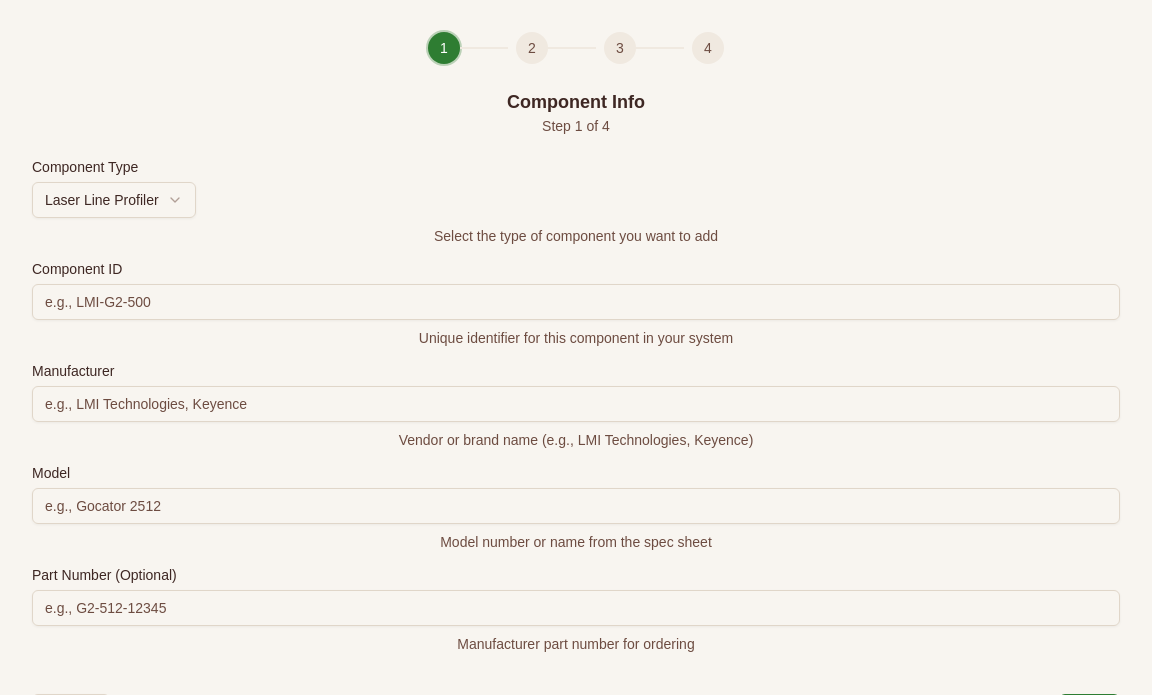
Test case: ComponentEntryWizard › step configuration by component type › AreascanCamera has 3 steps
Click the dropdown named "component type": (114,200) [32,182,196,218]
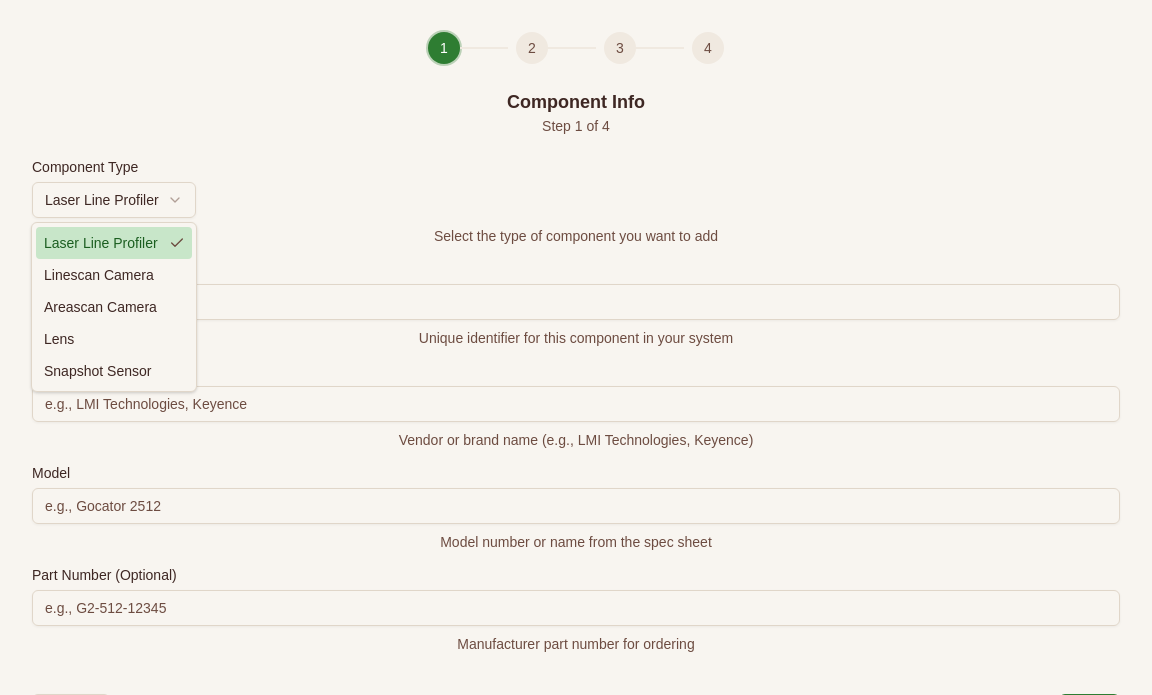
Click the option "Areascan Camera": (100,307) [44,299,157,315]
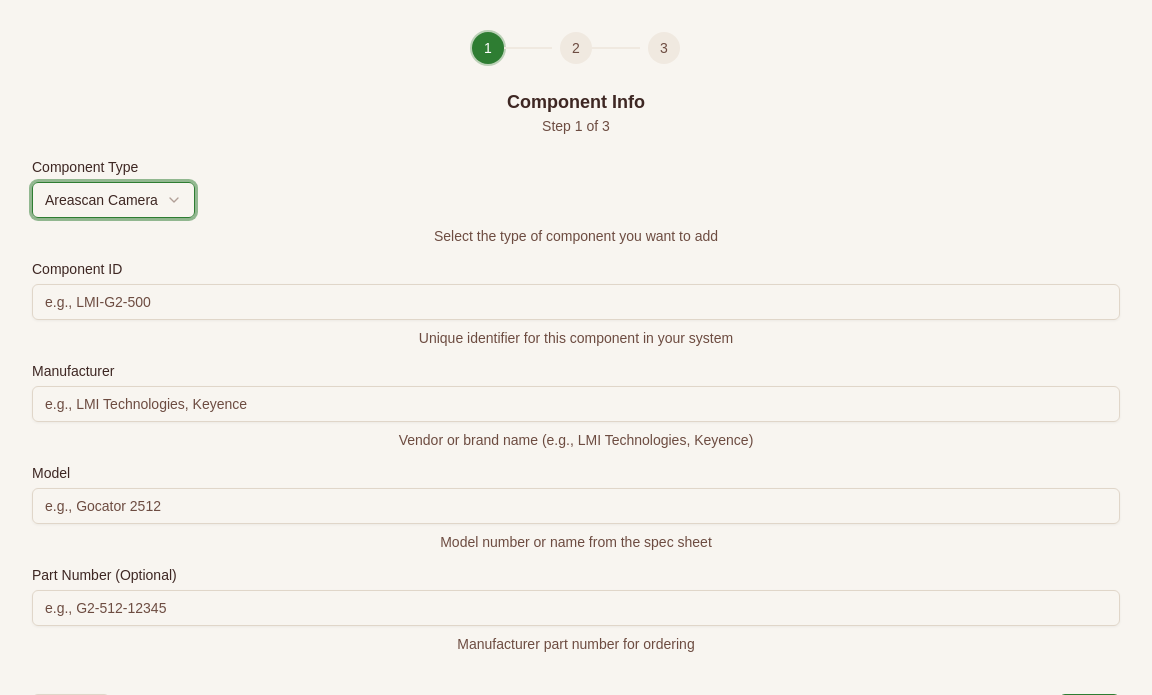
Now the text "Step 1 of 3" is shown, box [542,118,610,134]
